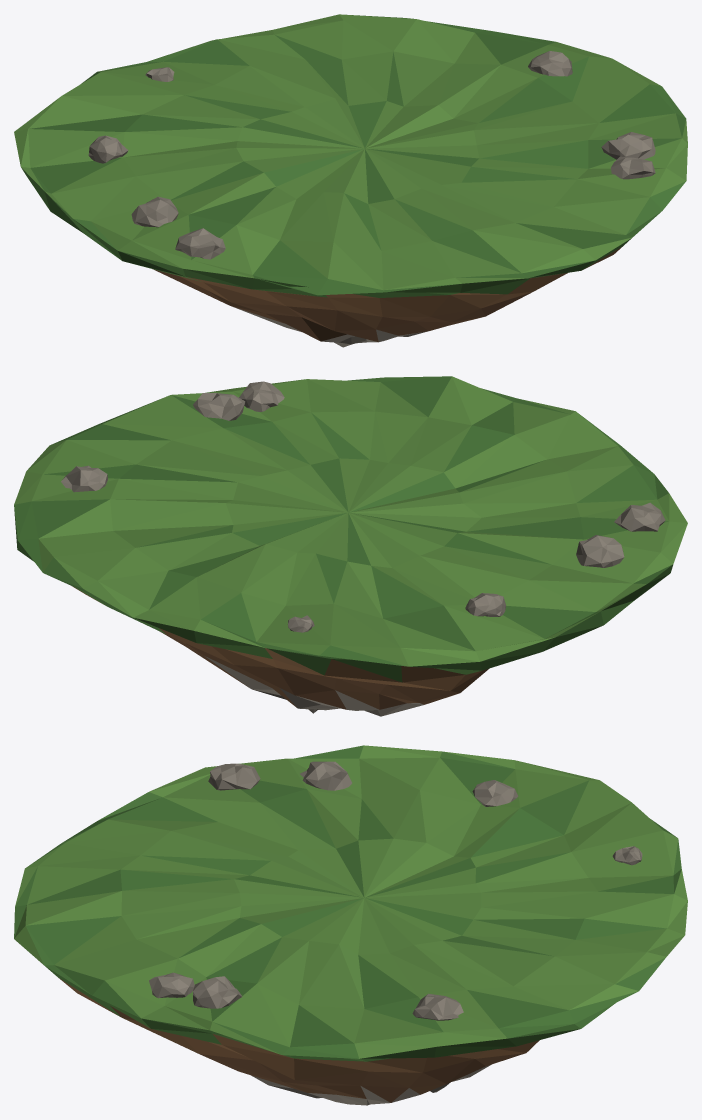
Rendered from ZB_zemin_ada.glb.
3 renders of one model, top to bottom at view 1: azimuth 30°, elevation 25°; view 2: azimuth 150°, elevation 25°; view 3: azimuth 270°, elevation 25°, orthographic. The views are drawn at different scales.
Parts seen in each view (by area): view 1: ZB_zemin_ada; view 2: ZB_zemin_ada; view 3: ZB_zemin_ada.
Boxes of the visible parts, x1=… form: ZB_zemin_ada: x1=14, y1=14, x2=687, y2=347; ZB_zemin_ada: x1=14, y1=376, x2=687, y2=716; ZB_zemin_ada: x1=14, y1=745, x2=687, y2=1105.
Bounding box in the file's own units: 12.36 × 4.13 × 11.59.
